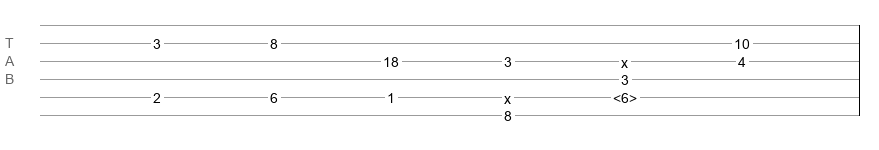1: (387, 90, 395, 100)
10: (734, 36, 750, 46)
18: (383, 54, 399, 64)
2: (153, 90, 161, 100)
3: (153, 36, 161, 46), (504, 54, 512, 64), (621, 72, 629, 82)
4: (738, 54, 746, 64)
6: (270, 90, 278, 100)
8: (270, 36, 278, 46), (504, 108, 512, 118)
harmonic: (613, 90, 637, 100)
x: (504, 91, 511, 99), (621, 55, 628, 63)
